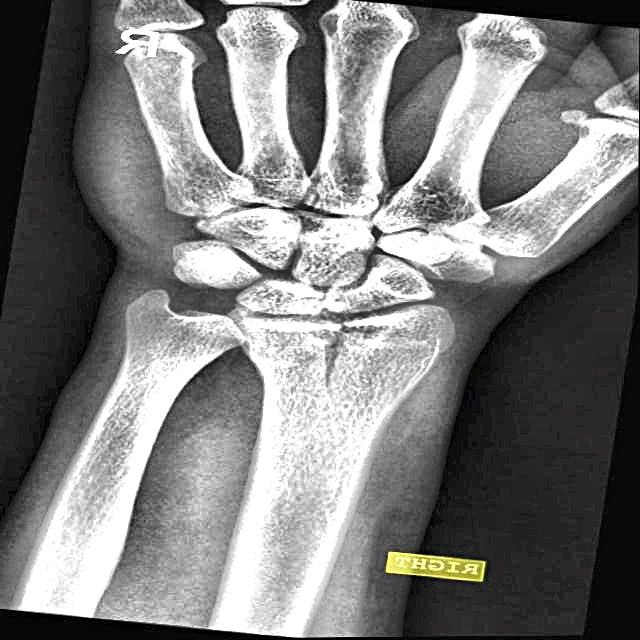Linear: (274, 304, 378, 406)
